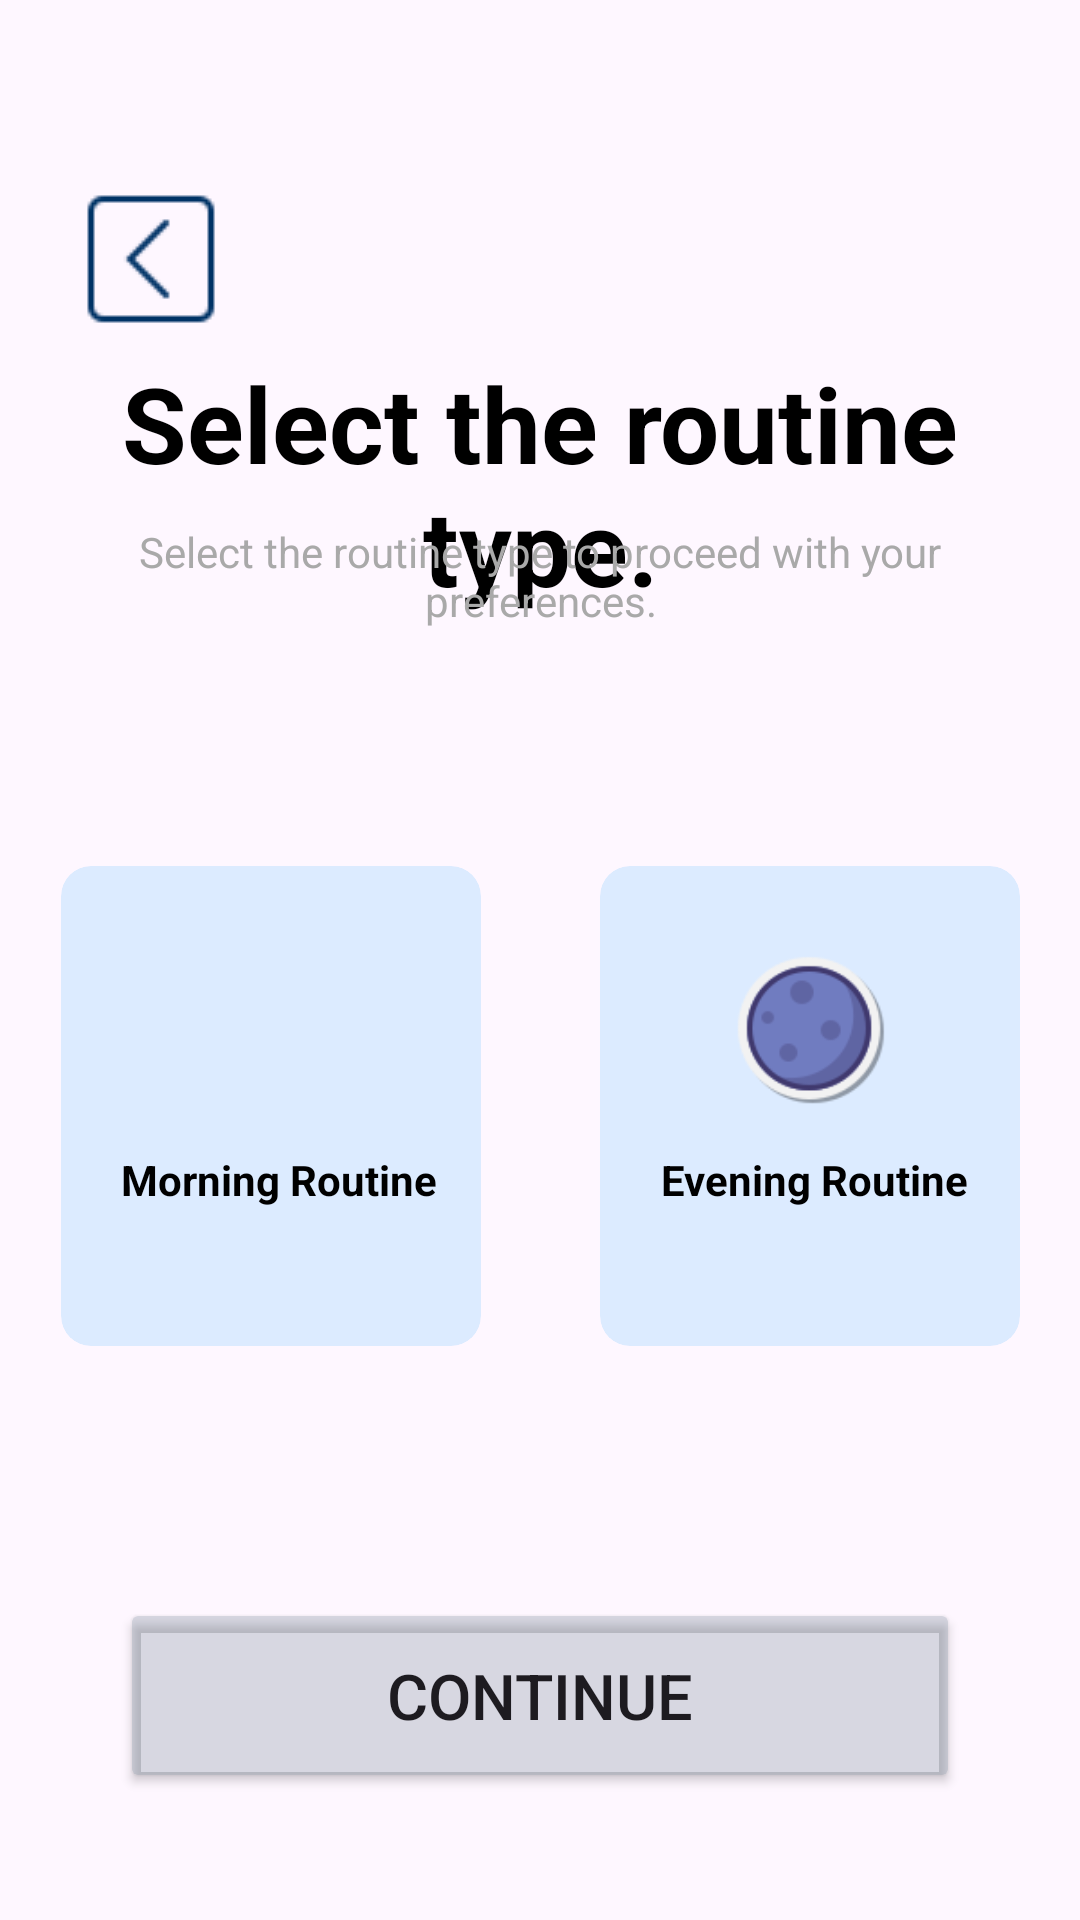

Locate icon controls on the screen. Image size 1080px×1920px, boxes as (x1, y1, x2, y2).
back button: (87, 195, 215, 323)
moon: (746, 965, 884, 1103)
